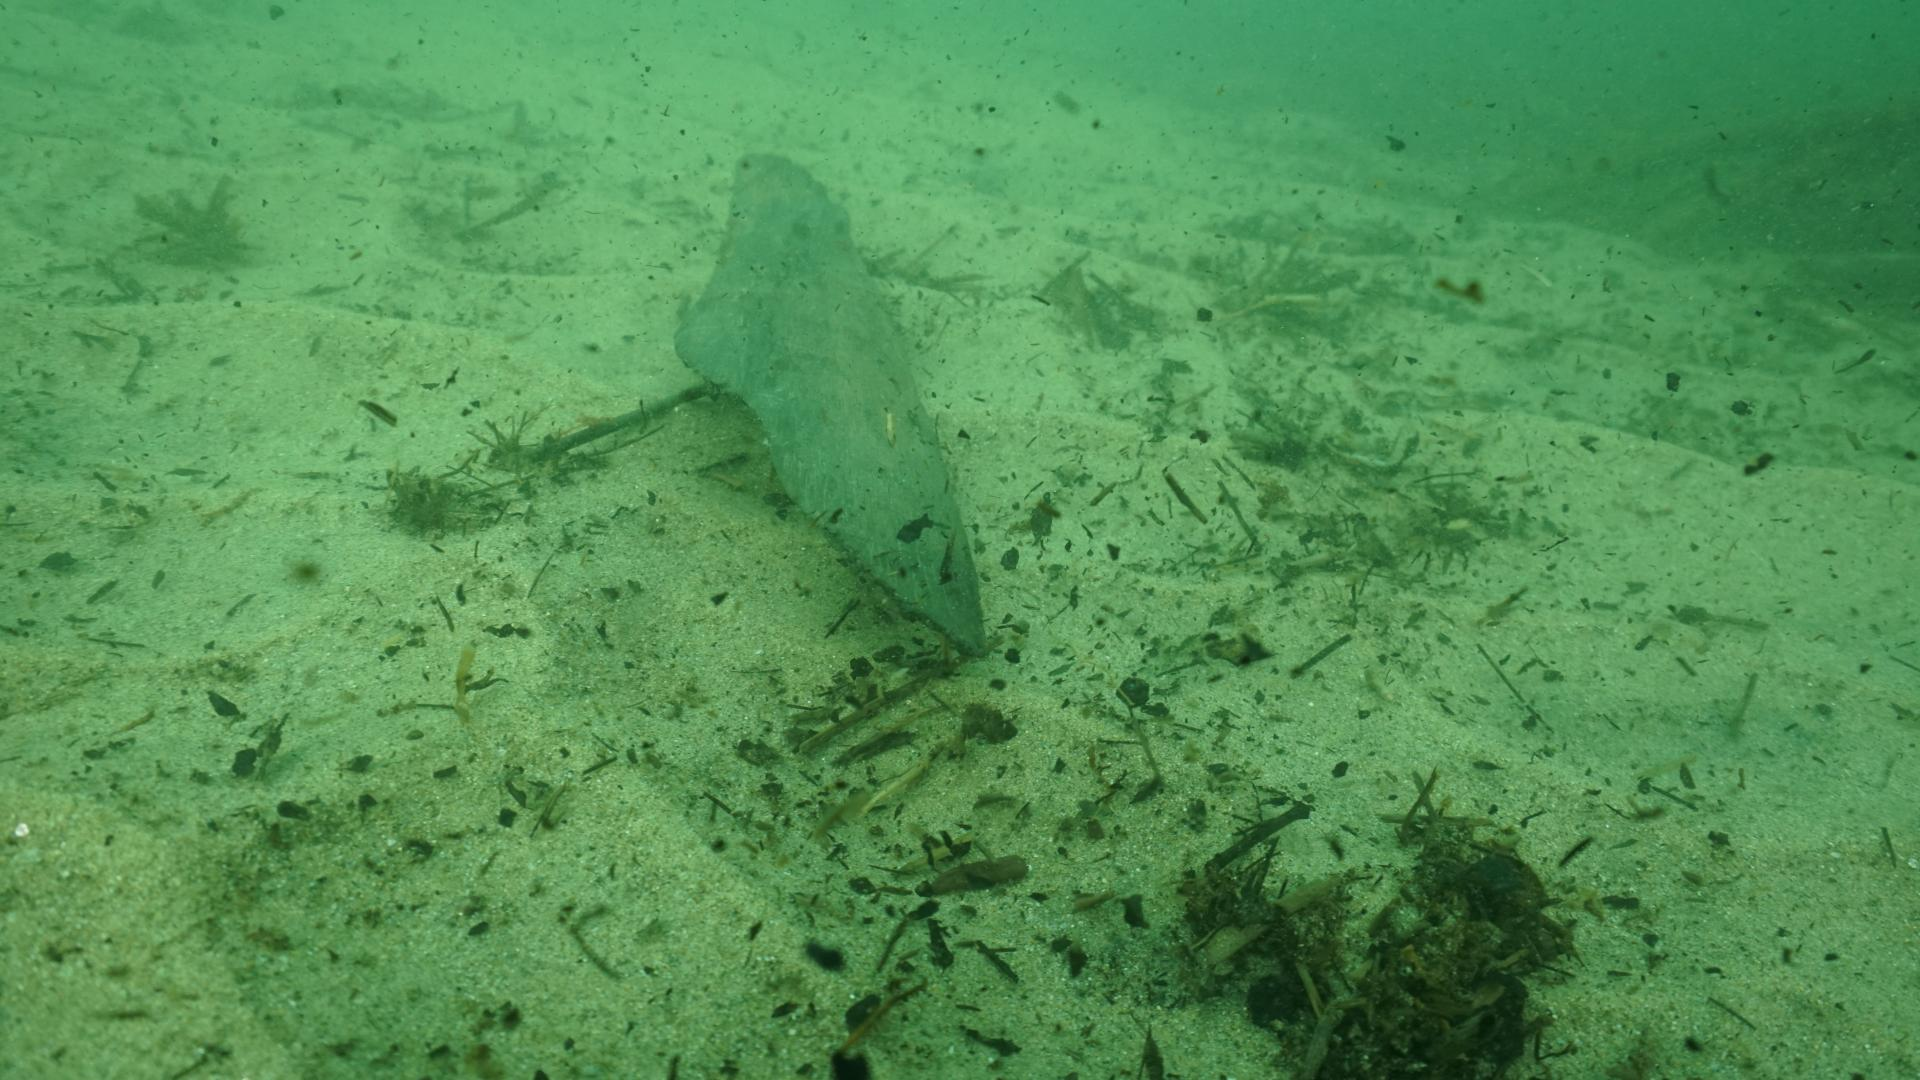wood: (669, 148, 994, 659)
